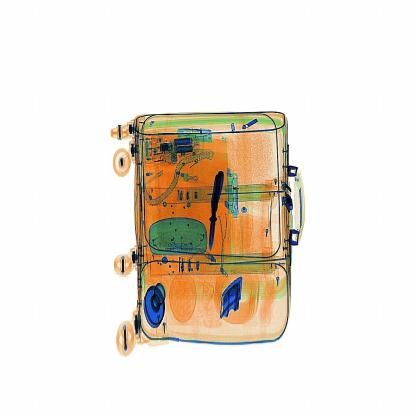gun: (204, 160, 234, 254)
